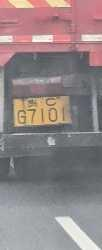License plate: (13, 96, 71, 128)
